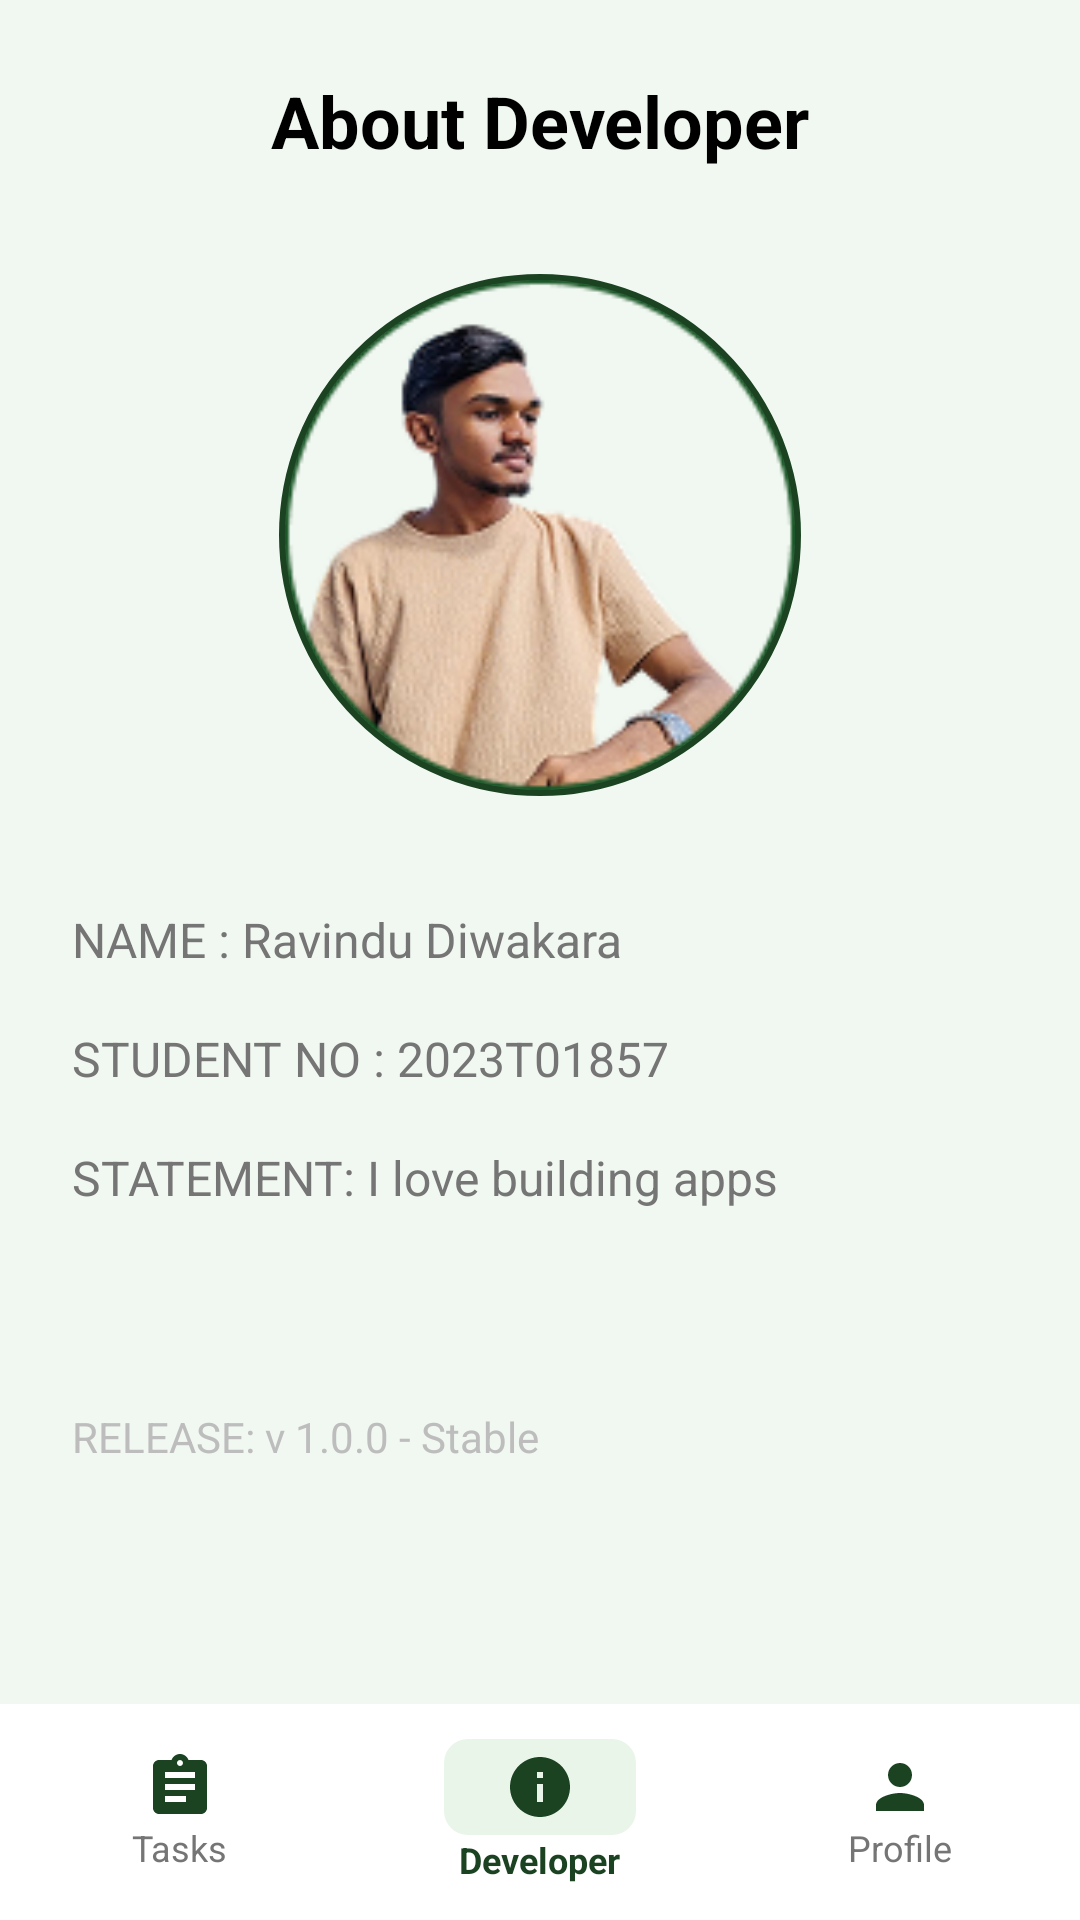

Screen size 1080px x 1920px. Icon name, then its box in pixels as (x1, y1, x2, y2):
info: (510, 1757, 570, 1817)
